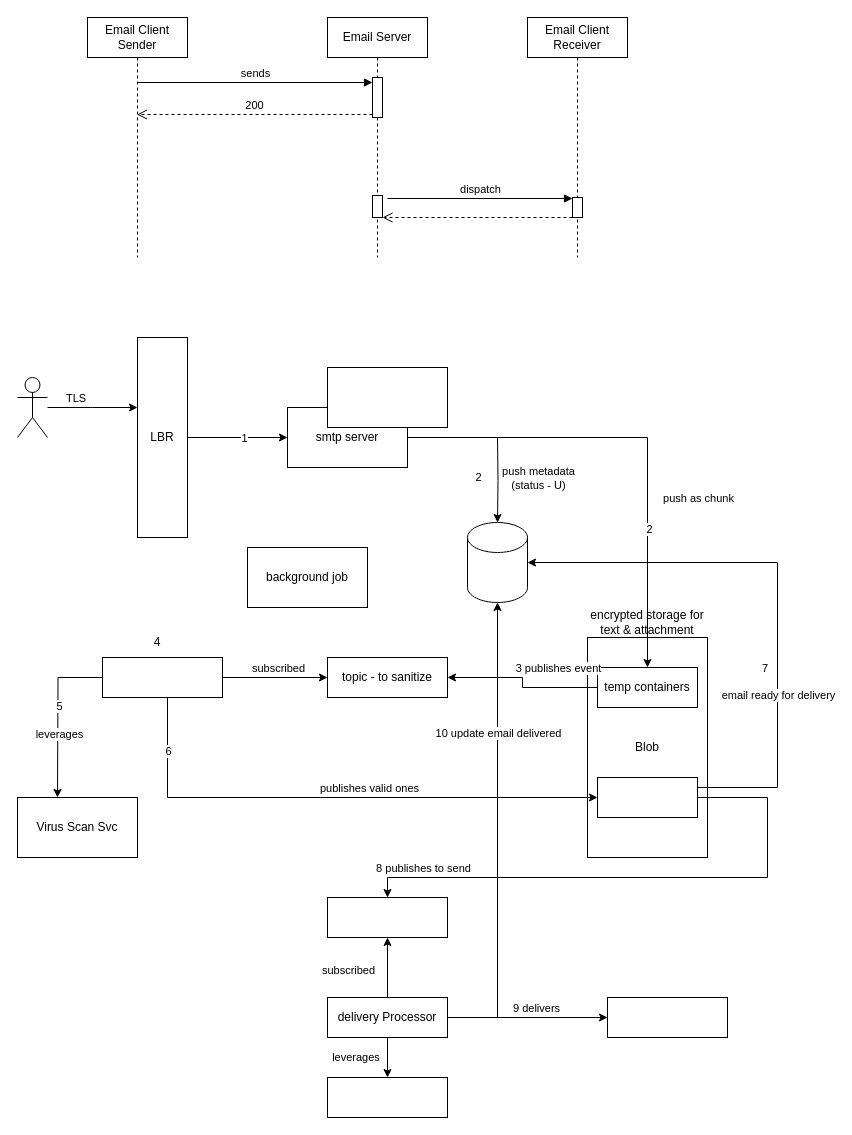
Image size: 852x1135. Some labels were removed from this diagram. Here are the shapes that lost their labels. From the top down, the centre of each, then its label:
point (32, 407): Client
point (162, 677): Santization Processor
point (647, 797): sanitized containers
point (387, 917): topic - for delivery
point (667, 1017): target device
point (387, 1097): client connection
